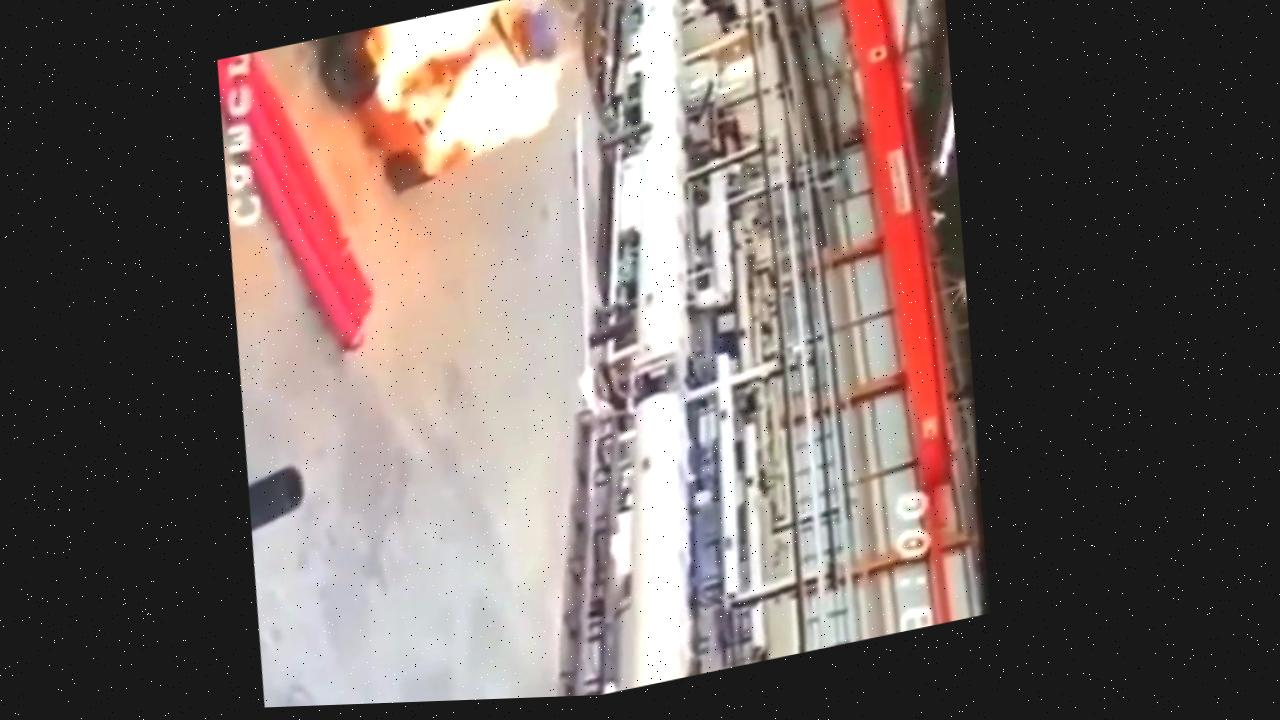fire: (305, 1, 626, 273)
